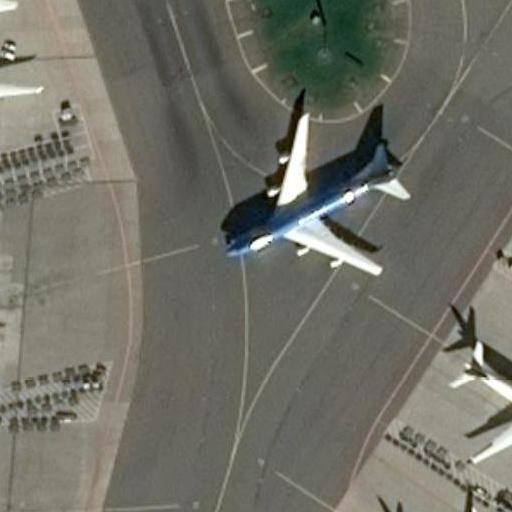Aircraft: (218, 88, 407, 280), (442, 317, 512, 467), (0, 0, 48, 170), (367, 499, 512, 512)
